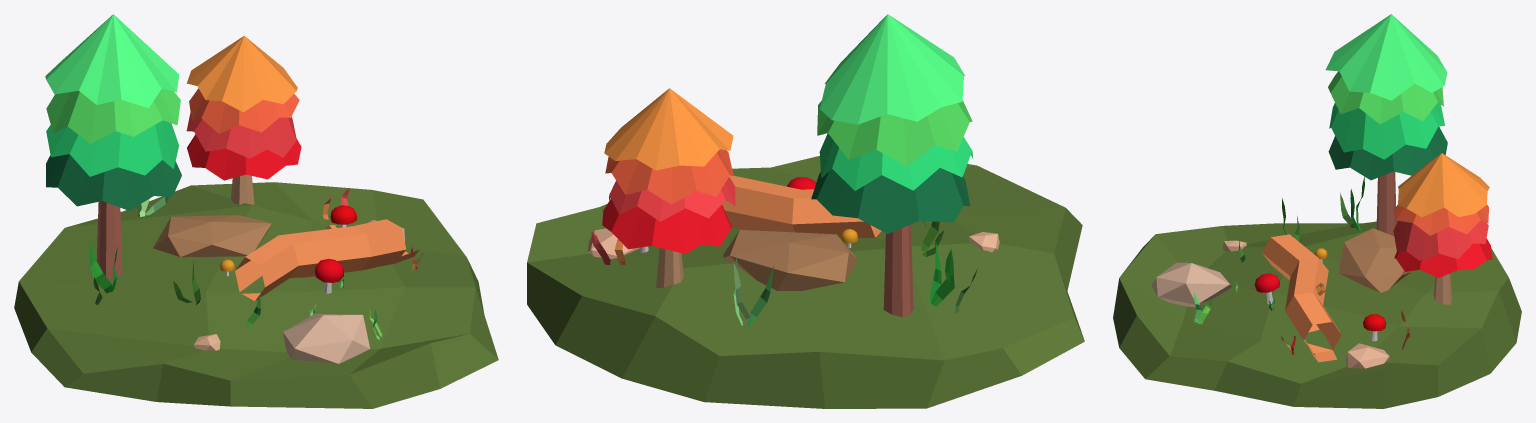
3 views of the same model, side by side, from view 1: azimuth 30°, elevation 25°; view 2: azimuth 150°, elevation 25°; view 3: azimuth 270°, elevation 25° (orthographic). The views are drawn at different scales.
Visible parts, largest first — view 1: Cylinder, Tree.Green, Tree.Yellow, Circle.002, Icosphere.004, Icosphere, Mushroom.Big.Sphere, Plane.011, Mushroom.Small.Sphere; view 2: Cylinder, Tree.Green, Tree.Yellow, Icosphere.004, Circle.002, Icosphere.005, Plane.011; view 3: Cylinder, Tree.Green, Tree.Yellow, Circle.002, Icosphere.004, Icosphere, Icosphere.005, Mushroom.Big.Sphere.
Part boxes in pixels (<box>): Cylinder: <box>14,182,498,408</box>; Tree.Green: <box>45,14,181,279</box>; Tree.Yellow: <box>186,35,301,204</box>; Circle.002: <box>235,219,418,300</box>; Icosphere.004: <box>153,215,271,257</box>; Icosphere: <box>283,314,370,363</box>; Mushroom.Big.Sphere: <box>315,258,343,282</box>; Plane.011: <box>89,241,112,293</box>; Mushroom.Small.Sphere: <box>330,205,357,224</box>; Cylinder: <box>527,156,1084,408</box>; Tree.Green: <box>811,14,973,317</box>; Tree.Yellow: <box>602,88,735,288</box>; Icosphere.004: <box>723,230,858,290</box>; Circle.002: <box>722,175,881,238</box>; Icosphere.005: <box>587,228,639,258</box>; Plane.011: <box>930,249,954,306</box>; Cylinder: <box>1113,220,1521,408</box>; Tree.Green: <box>1325,14,1447,235</box>; Tree.Yellow: <box>1393,153,1492,304</box>; Circle.002: <box>1262,234,1341,362</box>; Icosphere.004: <box>1338,228,1411,292</box>; Icosphere: <box>1151,262,1231,307</box>; Icosphere.005: <box>1345,343,1389,368</box>; Mushroom.Big.Sphere: <box>1254,273,1279,292</box>.
Bounding box in the file's own units: 7.25 × 4.93 × 6.98.
